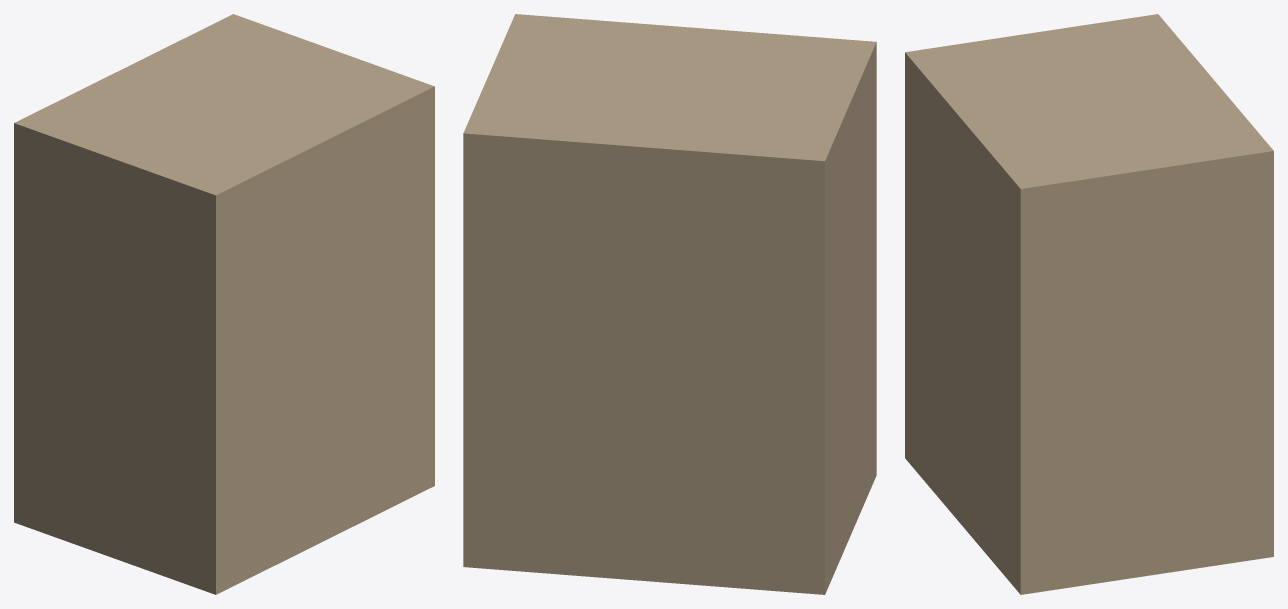
File: bld_108162103.dae
3 renders of one model, left to right at view 1: azimuth 30°, elevation 25°; view 2: azimuth 150°, elevation 25°; view 3: azimuth 270°, elevation 25°, orthographic. The views are drawn at different scales.
Parts seen in each view (by area): view 1: bld_108162103; view 2: bld_108162103; view 3: bld_108162103.
Boxes of the visible parts, x1=… form: bld_108162103: x1=14, y1=14, x2=434, y2=594; bld_108162103: x1=463, y1=14, x2=876, y2=594; bld_108162103: x1=905, y1=14, x2=1273, y2=594.
Size of the model in its own units: 7.4 by 6.59 by 8.
